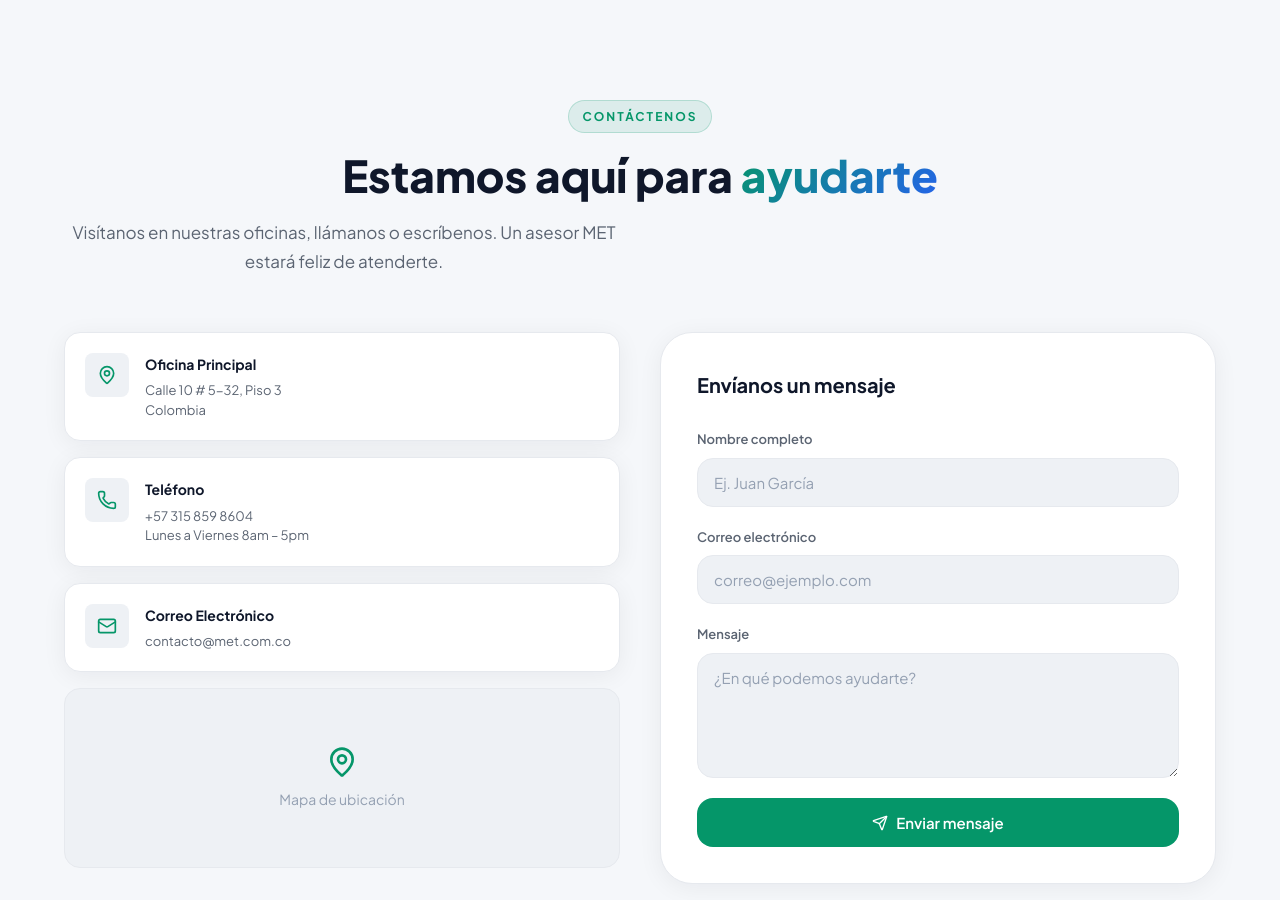
Scenario: ContactSection › envía el mensaje al backend y confirma al visitante
Type "Laura Gómez" into the field with placeholder "Ej. Juan García".
click(938, 482); type("Laura Gómez")  # box left=697, top=458, right=1179, bottom=507
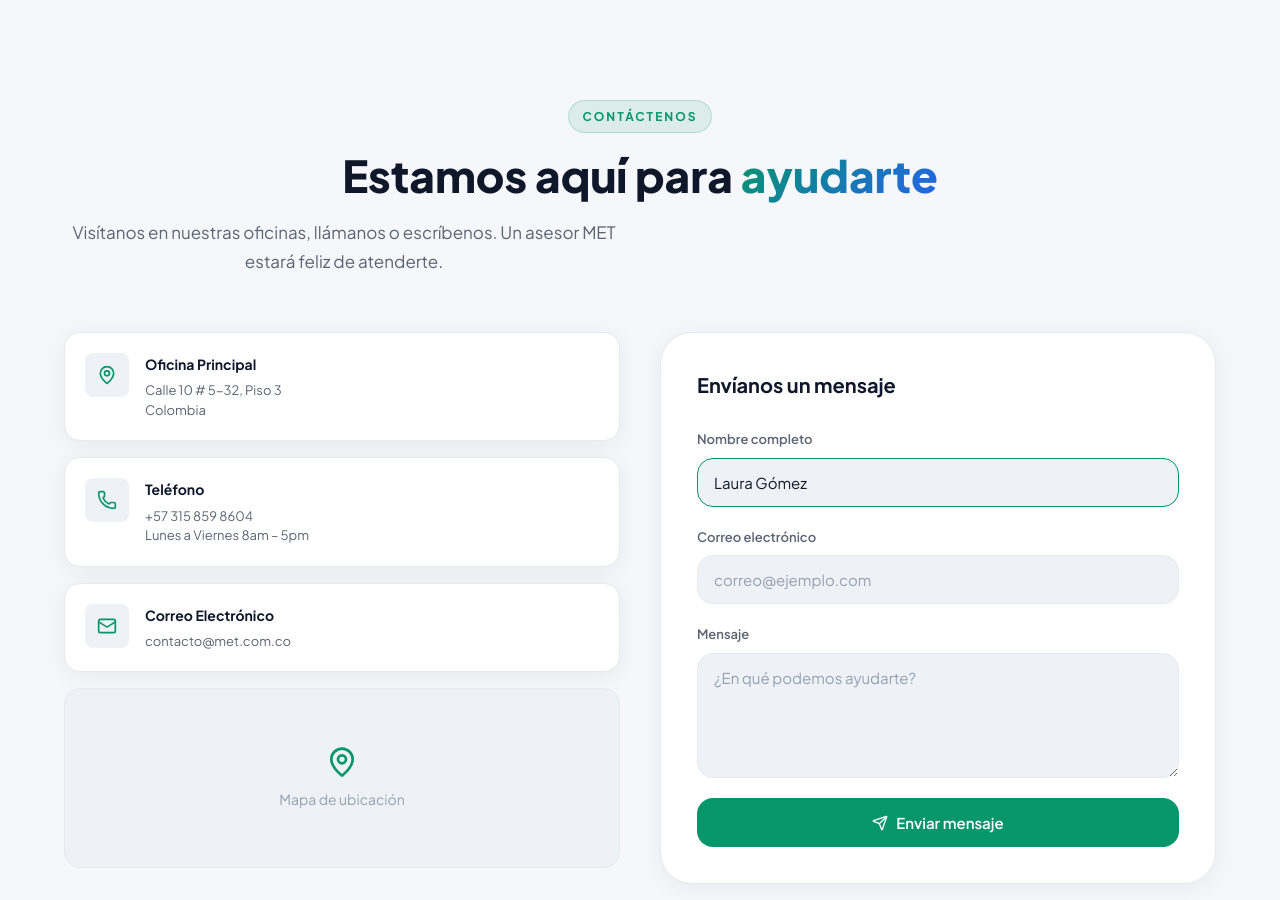
Type "laura@example.com" into the field with placeholder "correo@ejemplo.com".
click(938, 580); type("laura@example.com")  # box left=697, top=555, right=1179, bottom=604
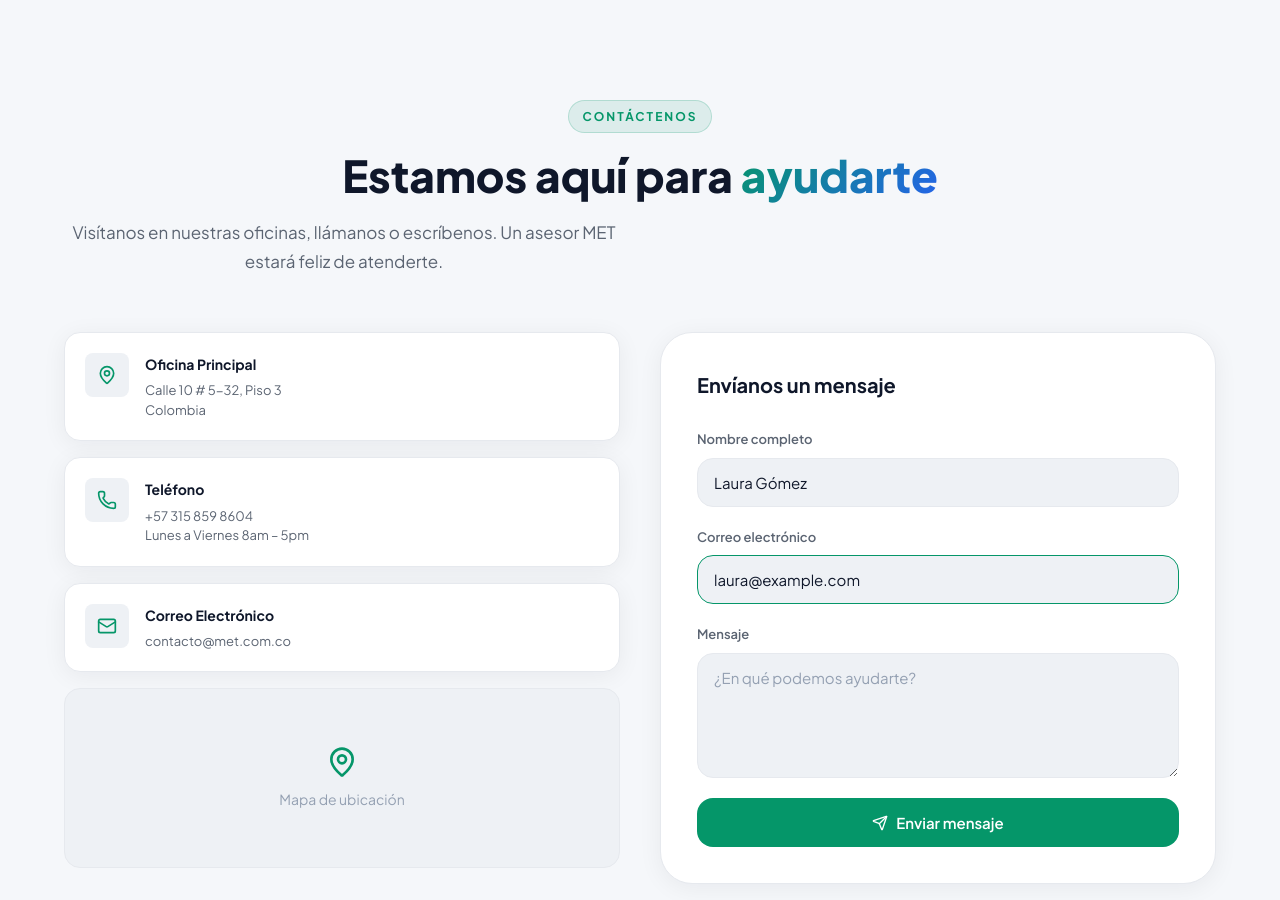
Type "Quiero abrir una cuenta" into the text box with placeholder "¿En qué podemos ayudarte?".
click(938, 716); type("Quiero abrir una cuenta")  # box left=697, top=653, right=1179, bottom=778
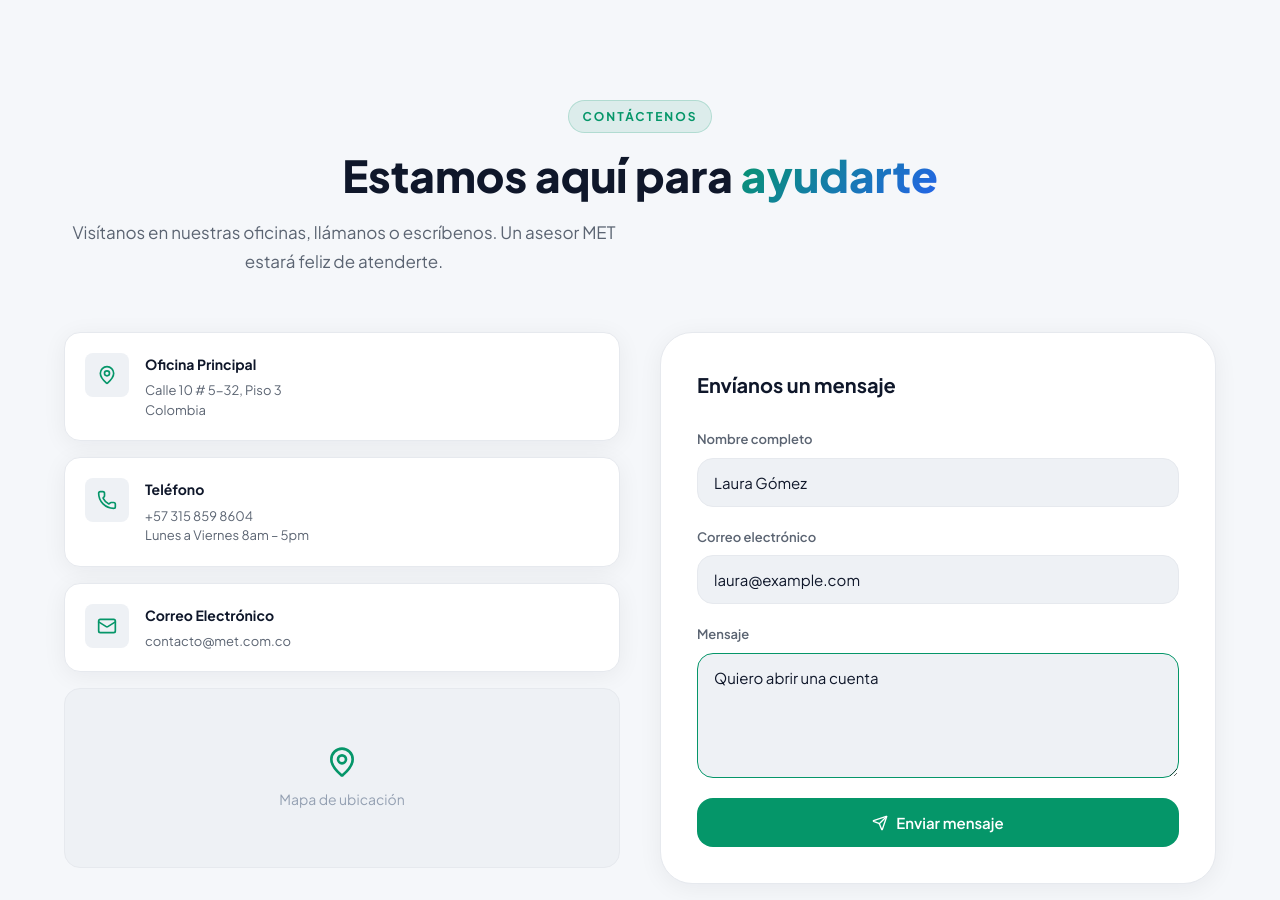
Click the button "Enviar mensaje".
click(938, 823)  # box left=697, top=798, right=1179, bottom=847
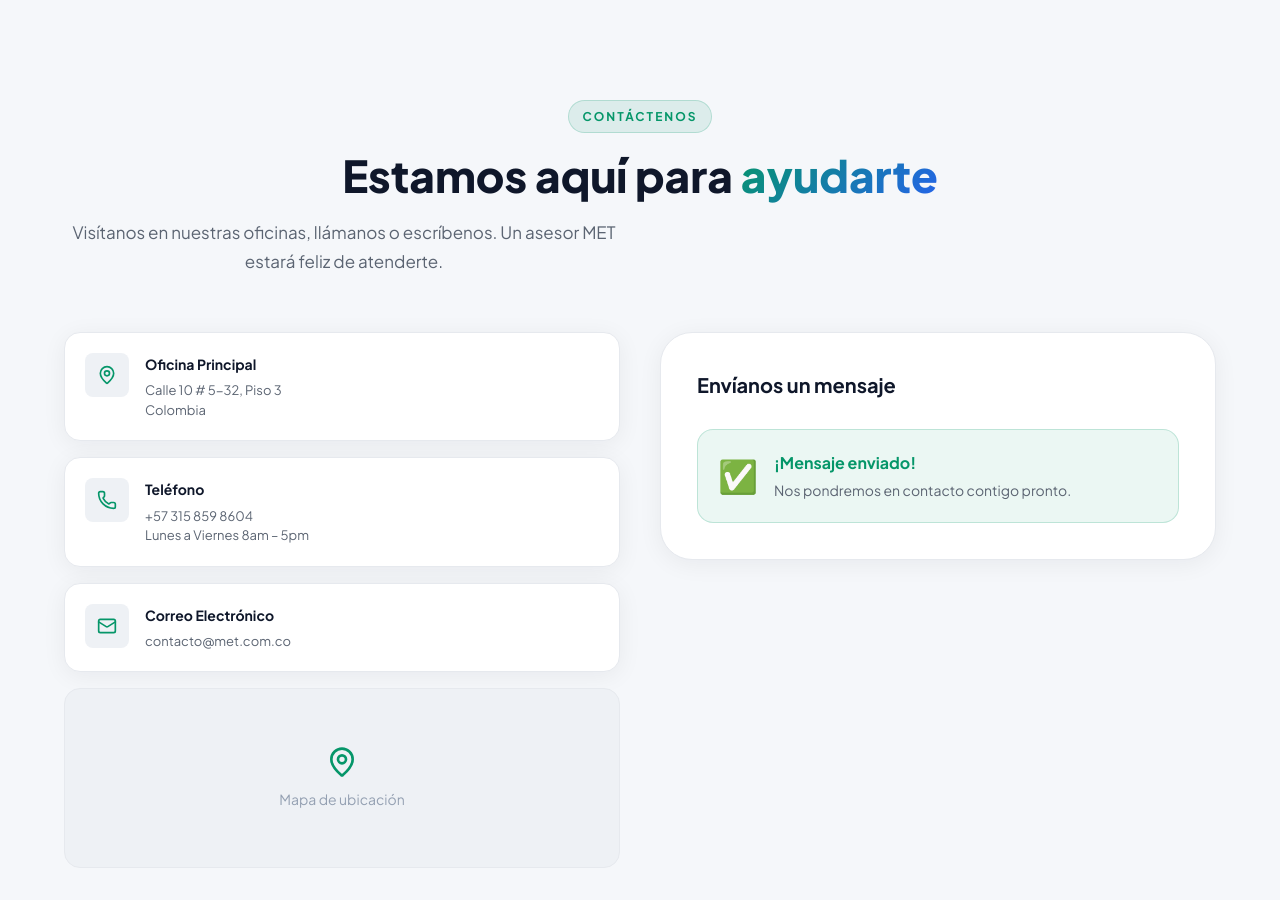
Check: the text "¡Mensaje enviado!" is shown, box left=774, top=452, right=916, bottom=473
